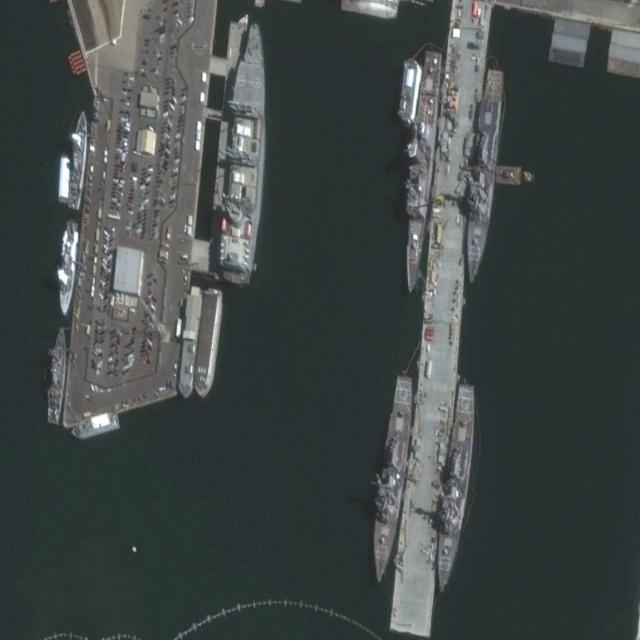Cruiser: (395, 48, 444, 297)
Destroyer: (428, 379, 481, 597), (364, 371, 417, 586), (459, 66, 505, 285)
Other Ship: (218, 19, 272, 286), (192, 288, 224, 400), (175, 286, 204, 401), (43, 325, 68, 426), (66, 107, 90, 210), (56, 219, 79, 317), (70, 409, 121, 443)
